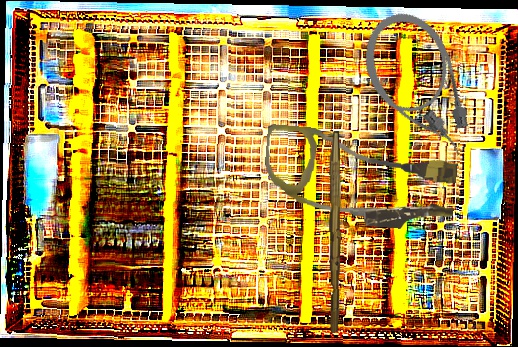Cannula: (351, 1, 485, 176), (260, 123, 460, 234)
Scalpel Handle: (325, 131, 344, 333)
